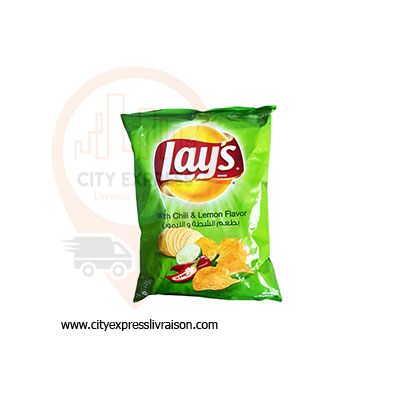plastic: (123, 104, 284, 306)
